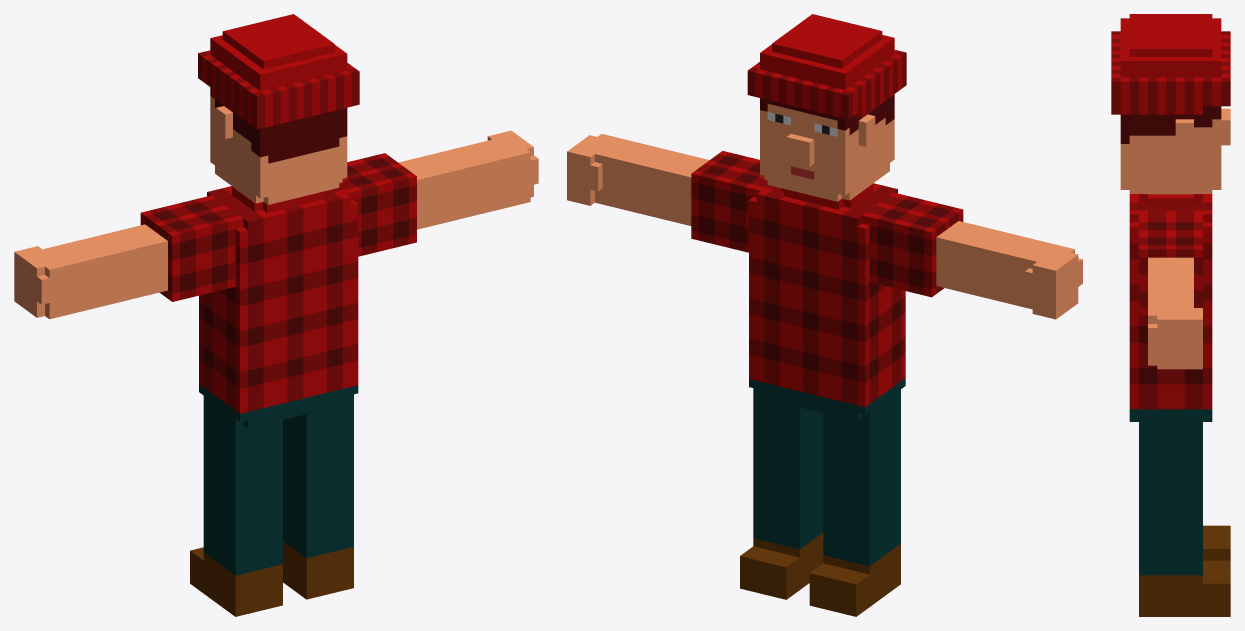
Rendered from lumber.obj.
3 renders of one model, left to right at view 1: azimuth 30°, elevation 25°; view 2: azimuth 150°, elevation 25°; view 3: azimuth 270°, elevation 25°, orthographic. The views are drawn at different scales.
Size of the model in its own units: 6.3 by 6.7 by 1.3.
Materials: 1 (1 with a texture image).
